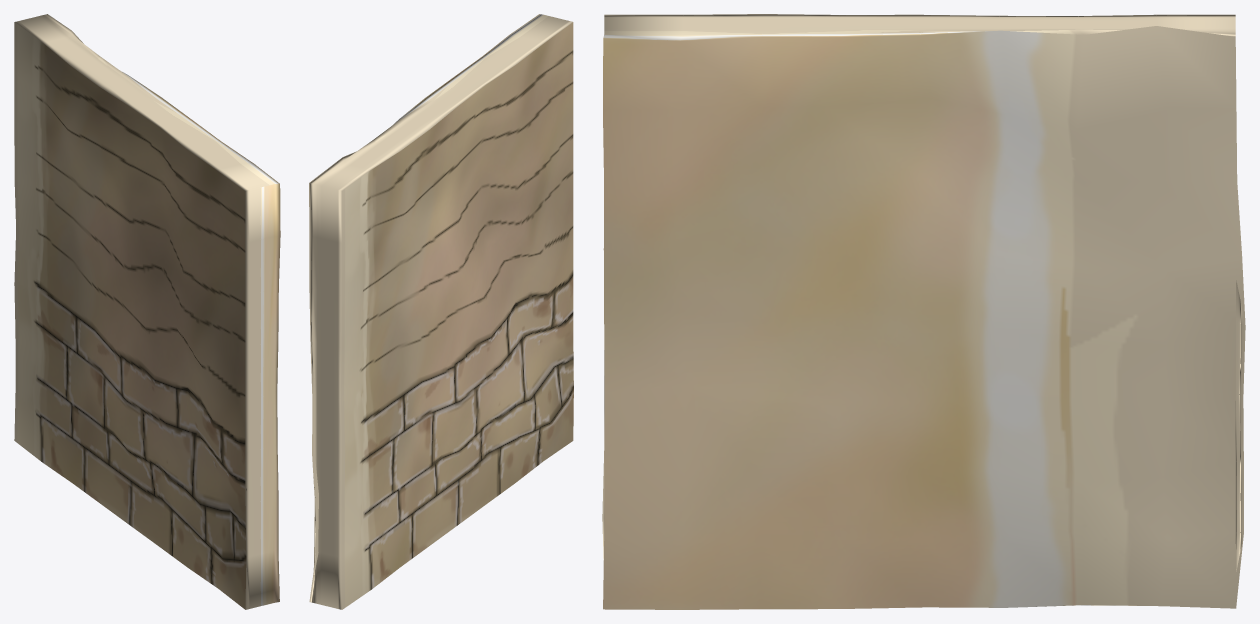
The model's file is Textured_wall_333.fbx.
3 renders of one model, left to right at view 1: azimuth 30°, elevation 25°; view 2: azimuth 150°, elevation 25°; view 3: azimuth 270°, elevation 25°, orthographic. The views are drawn at different scales.
Parts seen in each view (by area): view 1: BaseWall.049; view 2: BaseWall.049; view 3: BaseWall.049.
Boxes of the visible parts, x1,y1,x2,y2 form: BaseWall.049: (14, 14, 280, 609); BaseWall.049: (309, 14, 573, 609); BaseWall.049: (602, 14, 1245, 609).
Size of the model in its own units: 0.2342 by 2.03 by 2.04.
